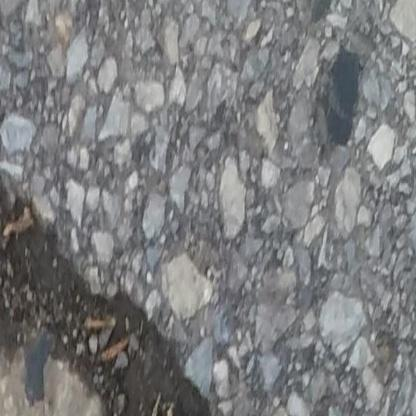Cracks: (0, 133, 232, 416)
